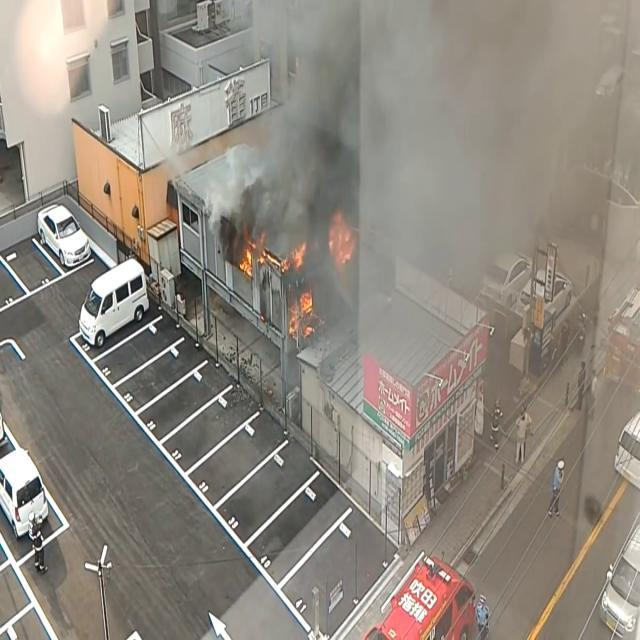Fire: (238, 234, 312, 281), (327, 206, 357, 273)
Smoke: (361, 0, 640, 317), (226, 1, 360, 285)
